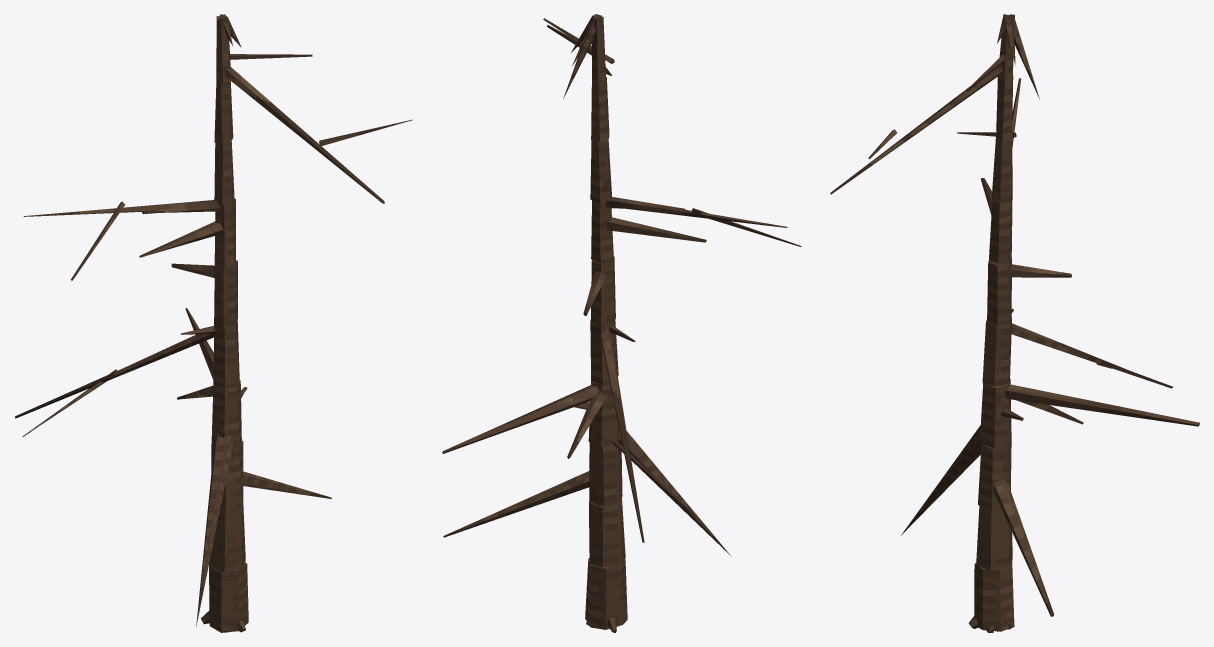
The model's file is snag_03_godot.glb.
3 renders of one model, left to right at view 1: azimuth 30°, elevation 25°; view 2: azimuth 150°, elevation 25°; view 3: azimuth 270°, elevation 25°, orthographic.
Visible parts, largest first — view 1: snag_03; view 2: snag_03; view 3: snag_03.
Part boxes in pixels (box(x1,y1,x2,y2)): snag_03: box(15, 14, 412, 632); snag_03: box(442, 14, 801, 632); snag_03: box(830, 14, 1199, 632).
Size of what is drawn, in the model's own units: 1.81 by 3.22 by 1.76.
1 material, 1 textured.
